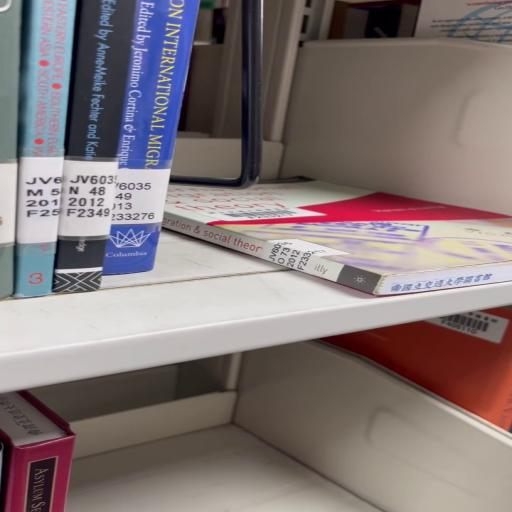flat: (165, 179, 512, 297)
